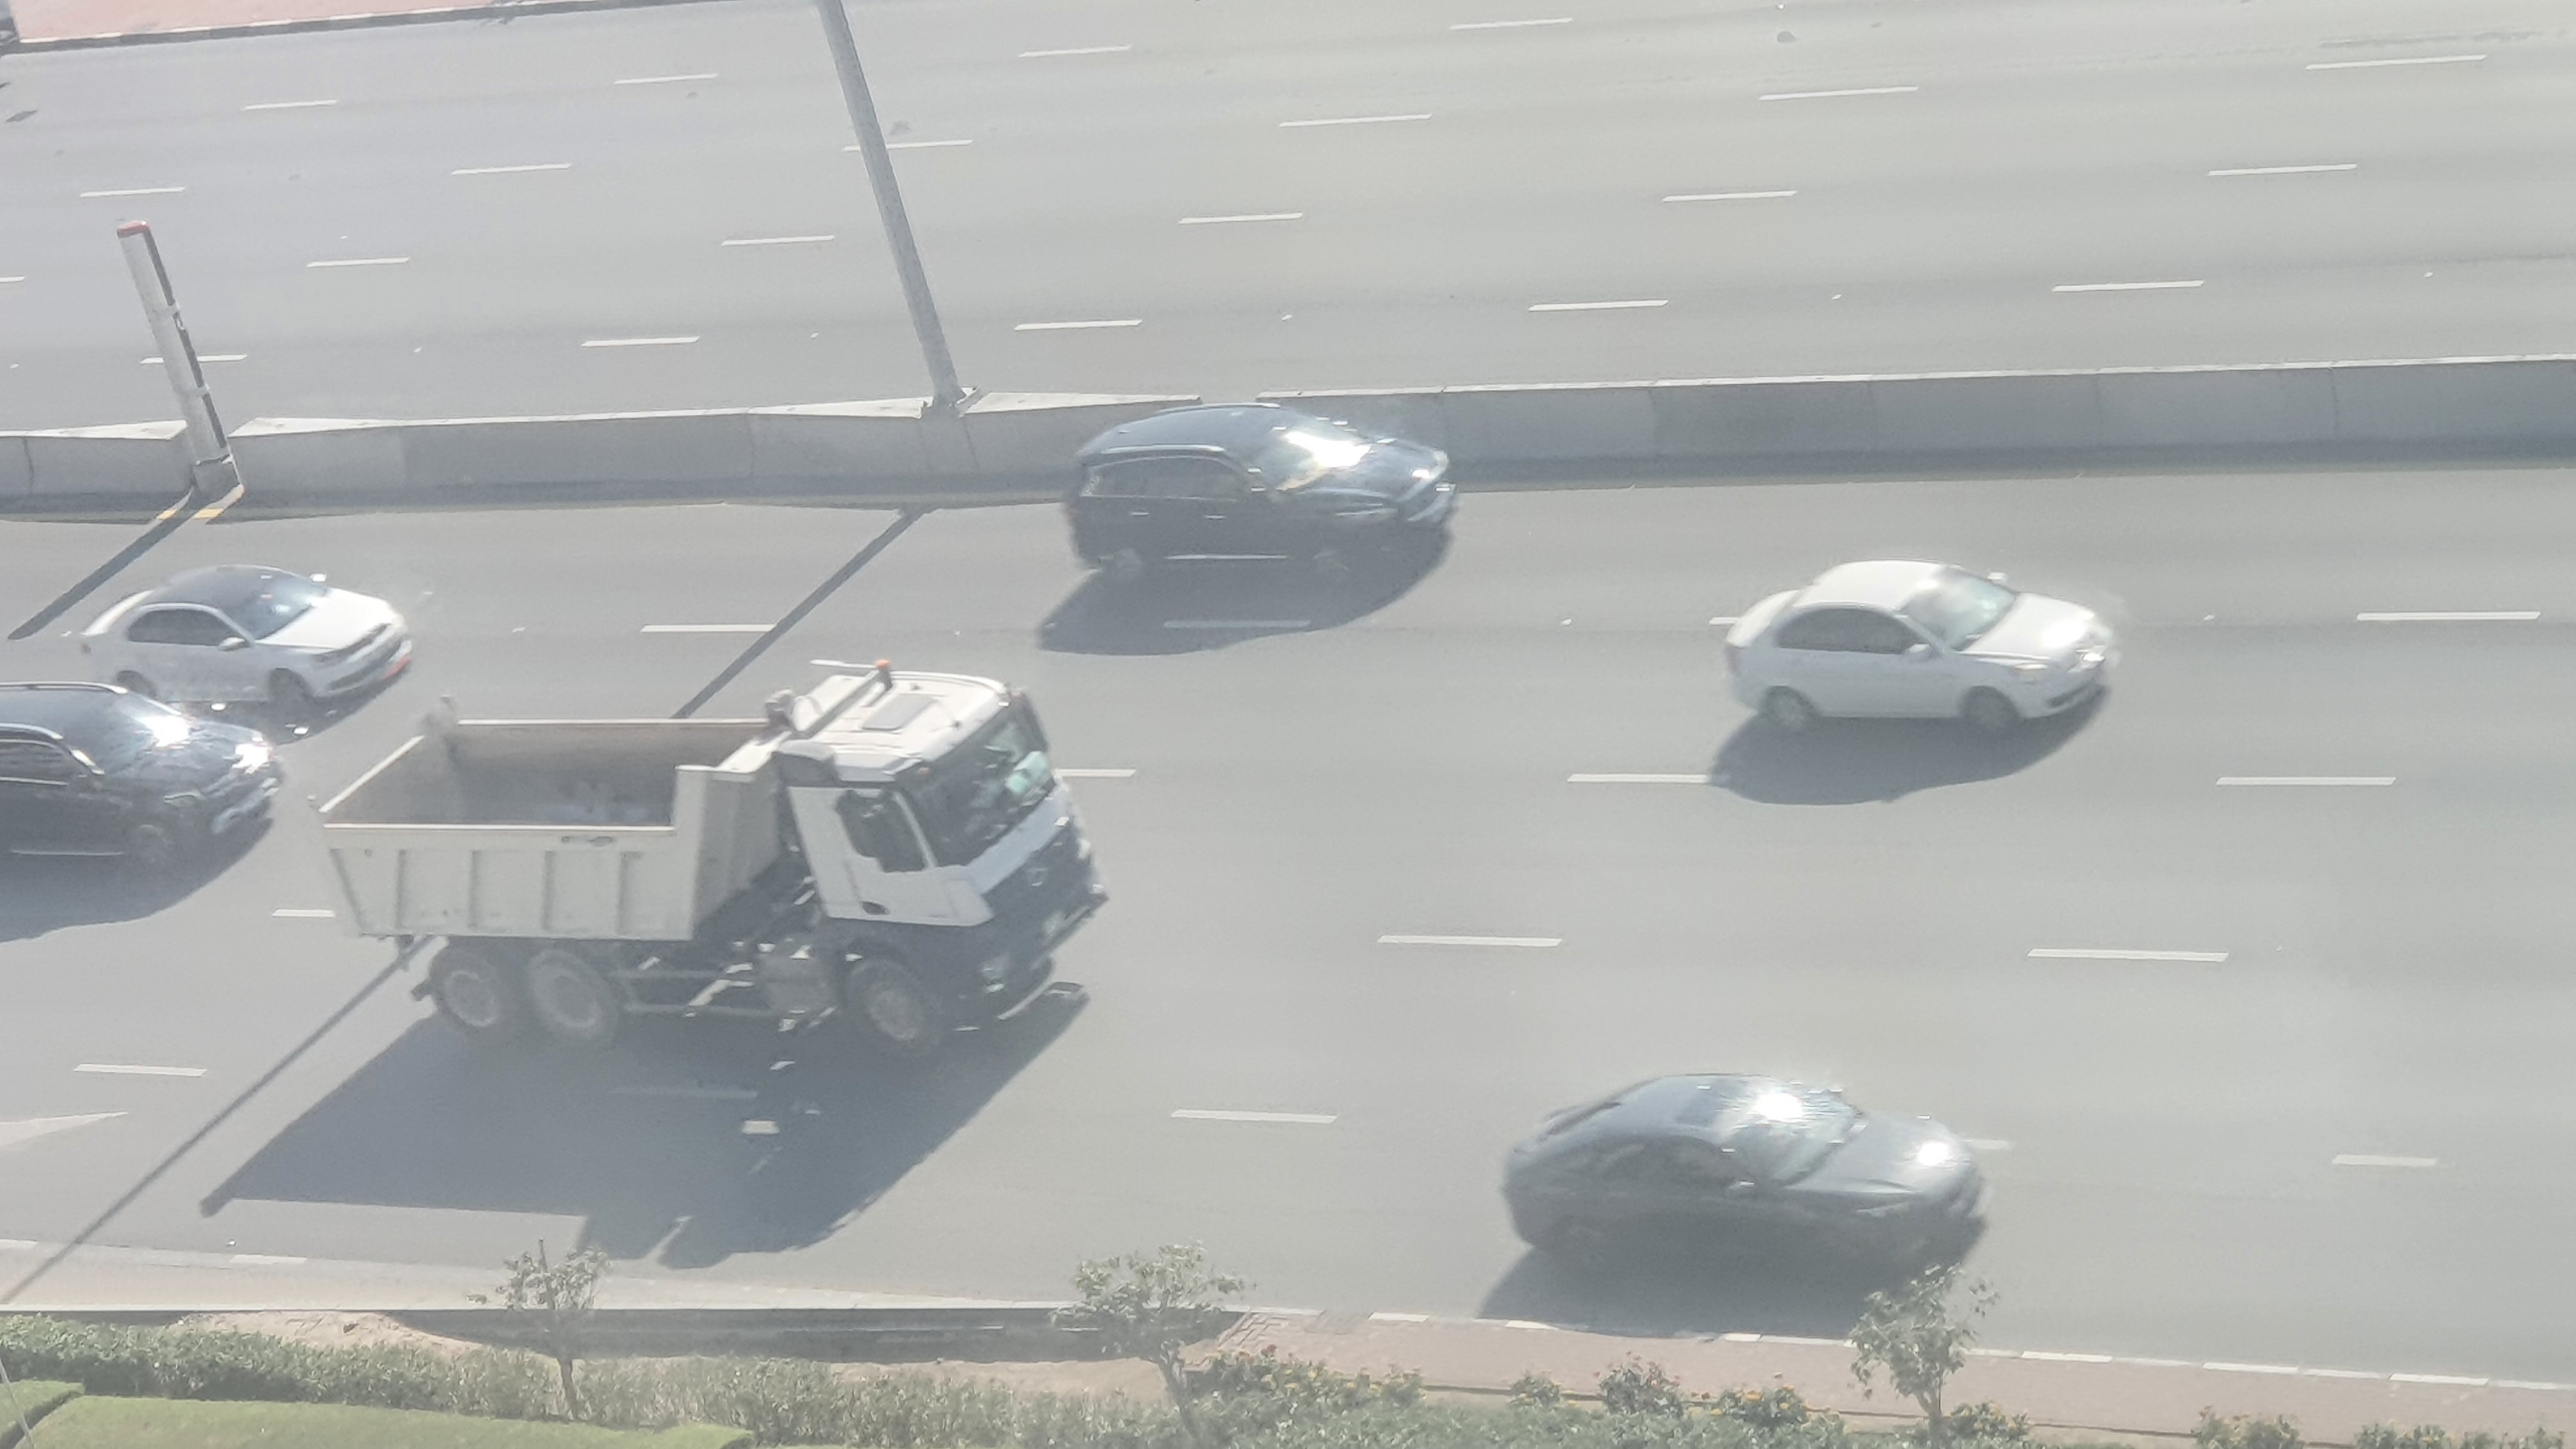NotSunroof: (1062, 402, 1470, 614), (1713, 563, 2128, 745)
Sunroof: (1500, 1051, 1989, 1315), (4, 681, 281, 881), (64, 564, 418, 717)
